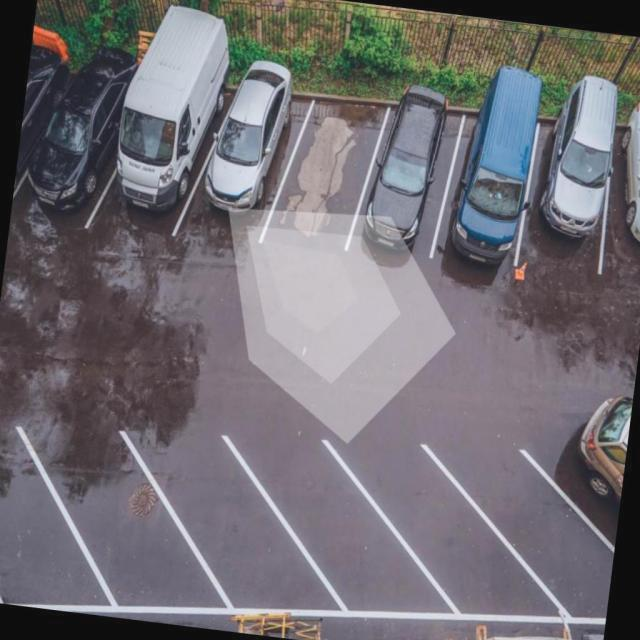space-empty: (237, 437, 442, 600), (351, 436, 547, 606), (36, 434, 222, 597), (142, 430, 323, 593), (458, 452, 624, 605), (261, 94, 384, 258), (0, 428, 100, 601)
space-occupied: (109, 58, 230, 256), (180, 76, 306, 260), (9, 65, 139, 243), (345, 105, 463, 272), (436, 94, 542, 260), (519, 112, 623, 279), (564, 416, 629, 574), (593, 120, 640, 278)
